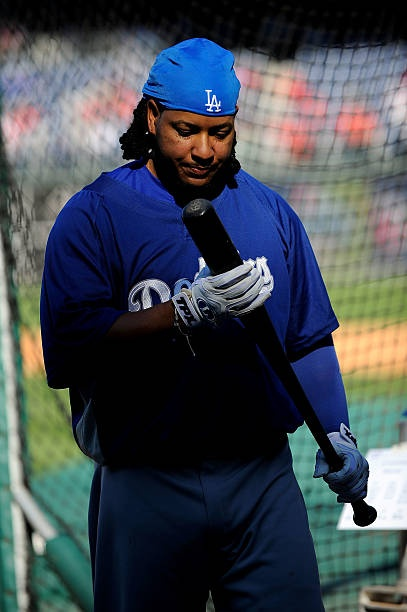bita: (189, 195, 378, 524)
